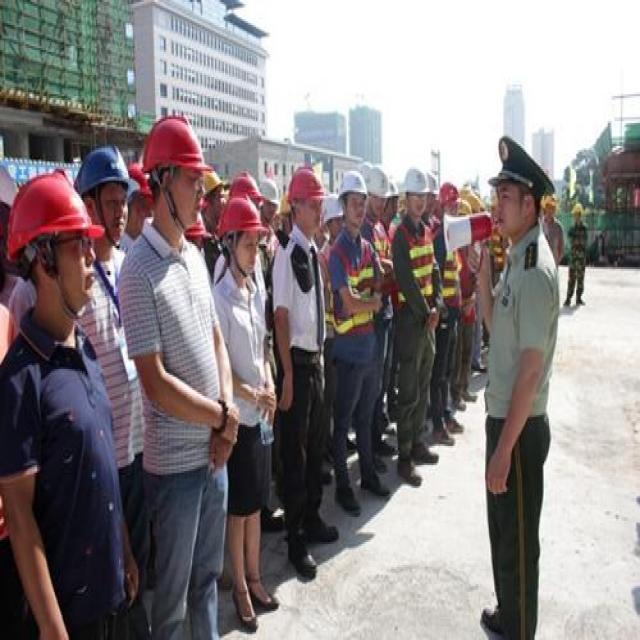Reflective-Jacket: (324, 235, 384, 337), (397, 217, 438, 306)
Safety-Helmet: (5, 171, 91, 254), (142, 115, 209, 175), (74, 142, 131, 194), (216, 196, 261, 236), (287, 165, 324, 204), (399, 163, 430, 196), (338, 167, 369, 198), (368, 163, 390, 196)
